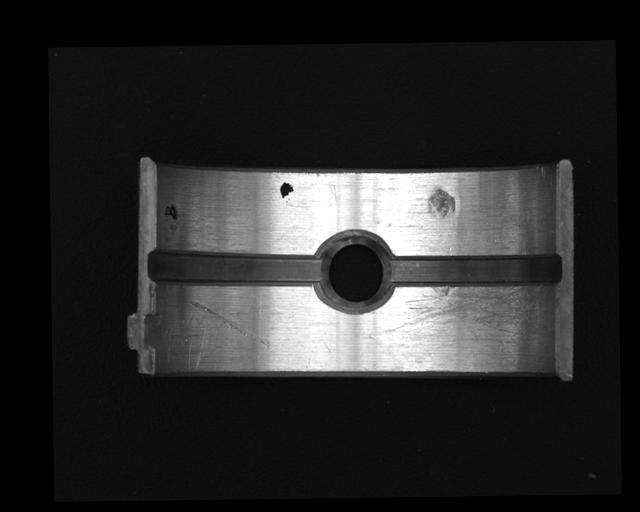blot: (162, 202, 179, 234), (278, 181, 295, 204)
bruise: (426, 186, 457, 220)
gap: (146, 245, 327, 289), (387, 251, 561, 289)
hole: (316, 232, 394, 312)
nick: (188, 297, 272, 349)
scratch: (384, 284, 547, 357)
